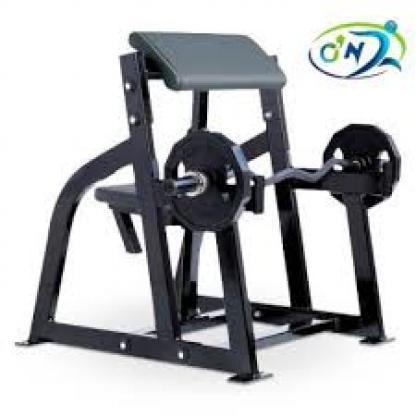arm curl machine: (13, 34, 401, 384)
